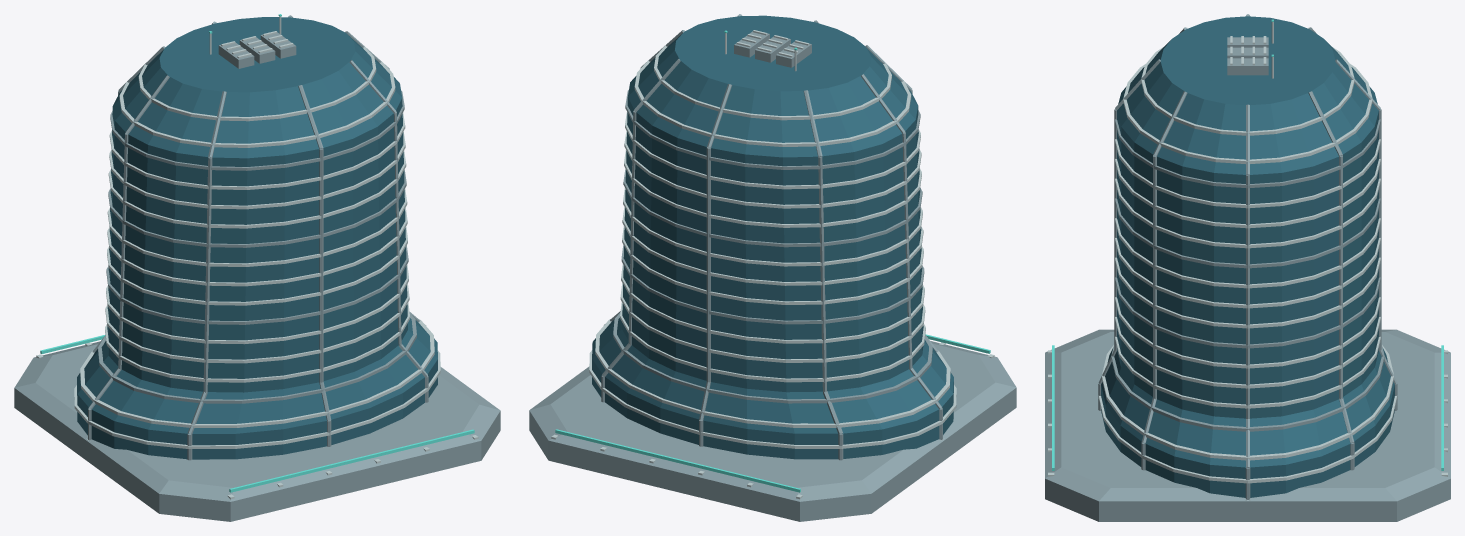
The model's file is Oval.fbx.
3 views of the same model, side by side, from view 1: azimuth 30°, elevation 25°; view 2: azimuth 150°, elevation 25°; view 3: azimuth 270°, elevation 25° (orthographic). The views are drawn at different scales.
Visible parts, largest first — view 1: Far FutureGlass, Near FutureShell, Near FutureMetal, Near FutureNeon; view 2: Far FutureGlass, Near FutureShell, Near FutureMetal, Near FutureNeon; view 3: Far FutureGlass, Near FutureShell, Near FutureMetal, Near FutureNeon.
Part boxes in pixels (x1,y1,x2,y2): Far FutureGlass: [77, 17, 437, 459]; Near FutureShell: [14, 15, 500, 521]; Near FutureMetal: [36, 16, 478, 499]; Near FutureNeon: [40, 14, 474, 492]; Far FutureGlass: [592, 15, 953, 459]; Near FutureShell: [529, 14, 1016, 521]; Near FutureMetal: [551, 30, 994, 499]; Near FutureNeon: [555, 30, 990, 492]; Far FutureGlass: [1101, 16, 1394, 497]; Near FutureShell: [1045, 14, 1450, 521]; Near FutureMetal: [1048, 22, 1447, 500]; Near FutureNeon: [1052, 19, 1443, 470].
Size of what is drawn, in the model's own units: 98 by 106 by 98.
